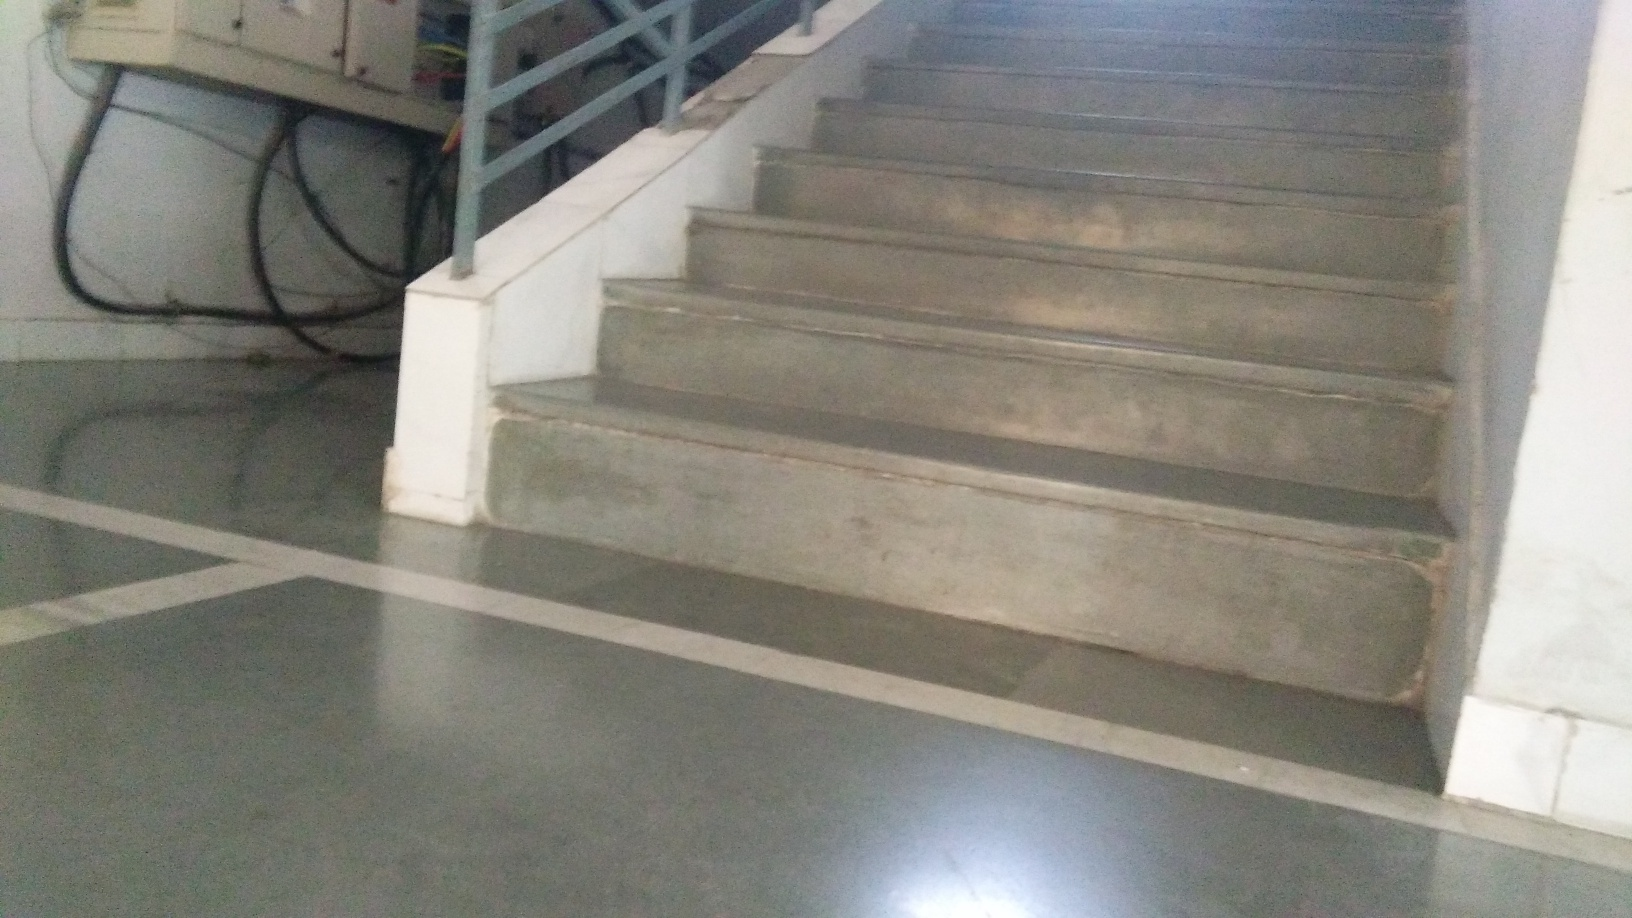stairs_up: (482, 1, 1478, 727)
